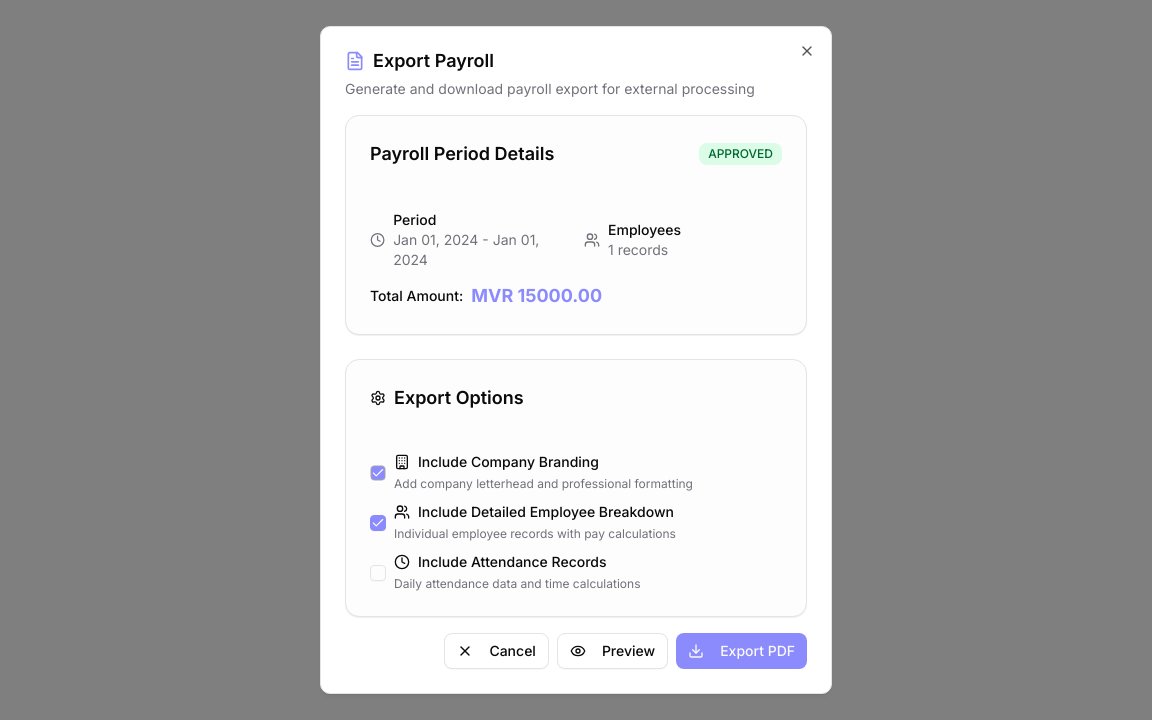
Test: PayrollExportModal › should display export error when present
The width and height of the screenshot is (1152, 720).
Note: Since error handling is internal to the component, we need to trigger it
Click the button "Export PDF": [742, 651] box [676,633,807,669]
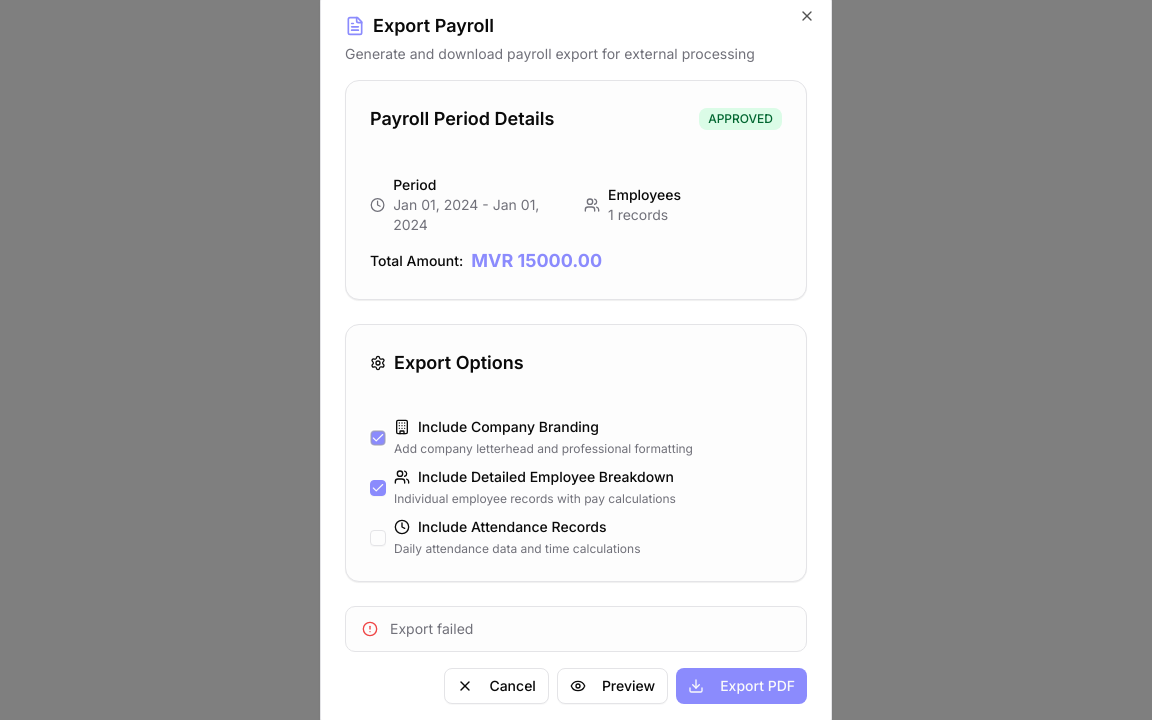
Now the text "Export failed" is shown, box [390,620,473,637]
